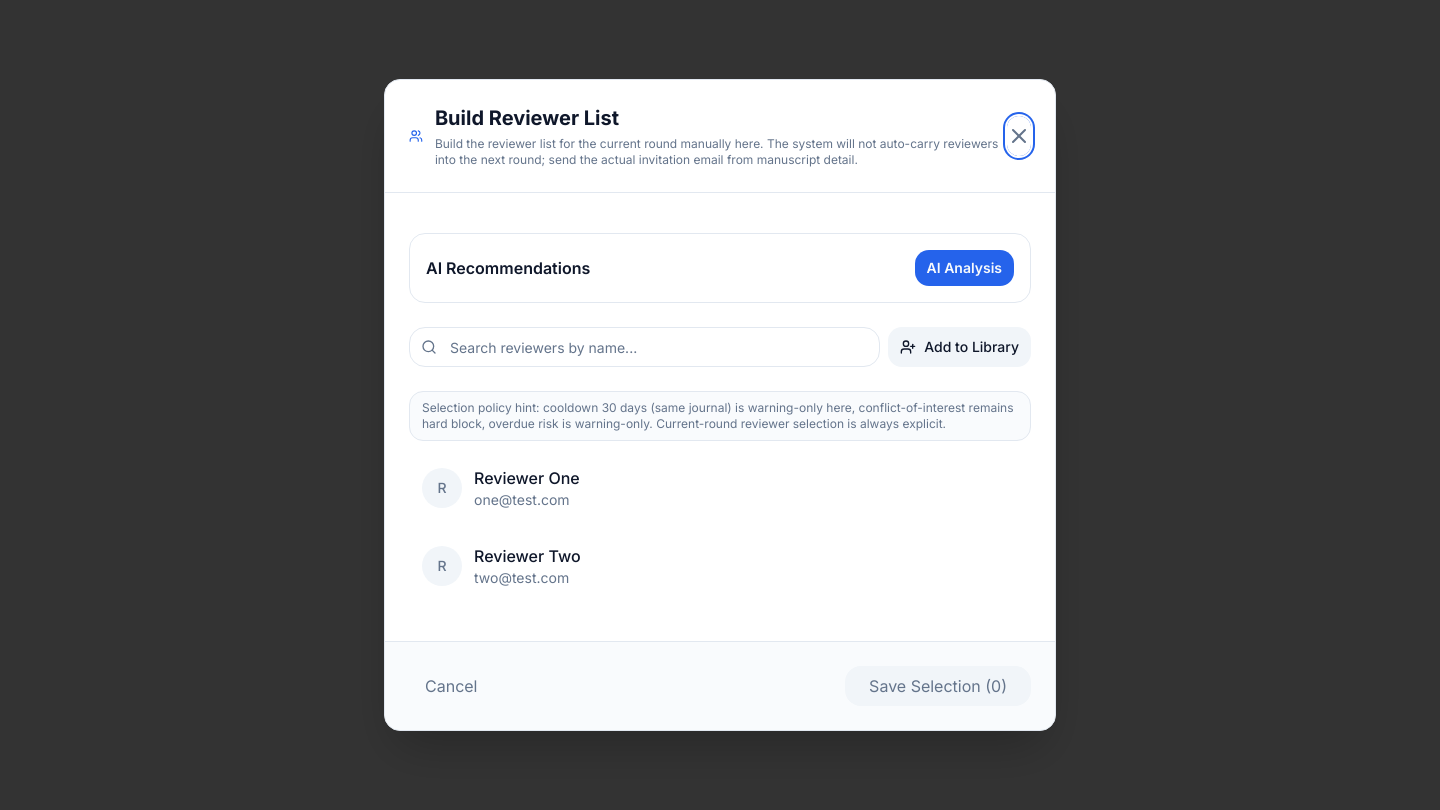
Test: ReviewerAssignModal AI Recommendations › keeps failed reviewers selected after partial success
Click the button with test id "reviewer-row-r-1".
click(442, 488)  # box [409,453,1031,523]
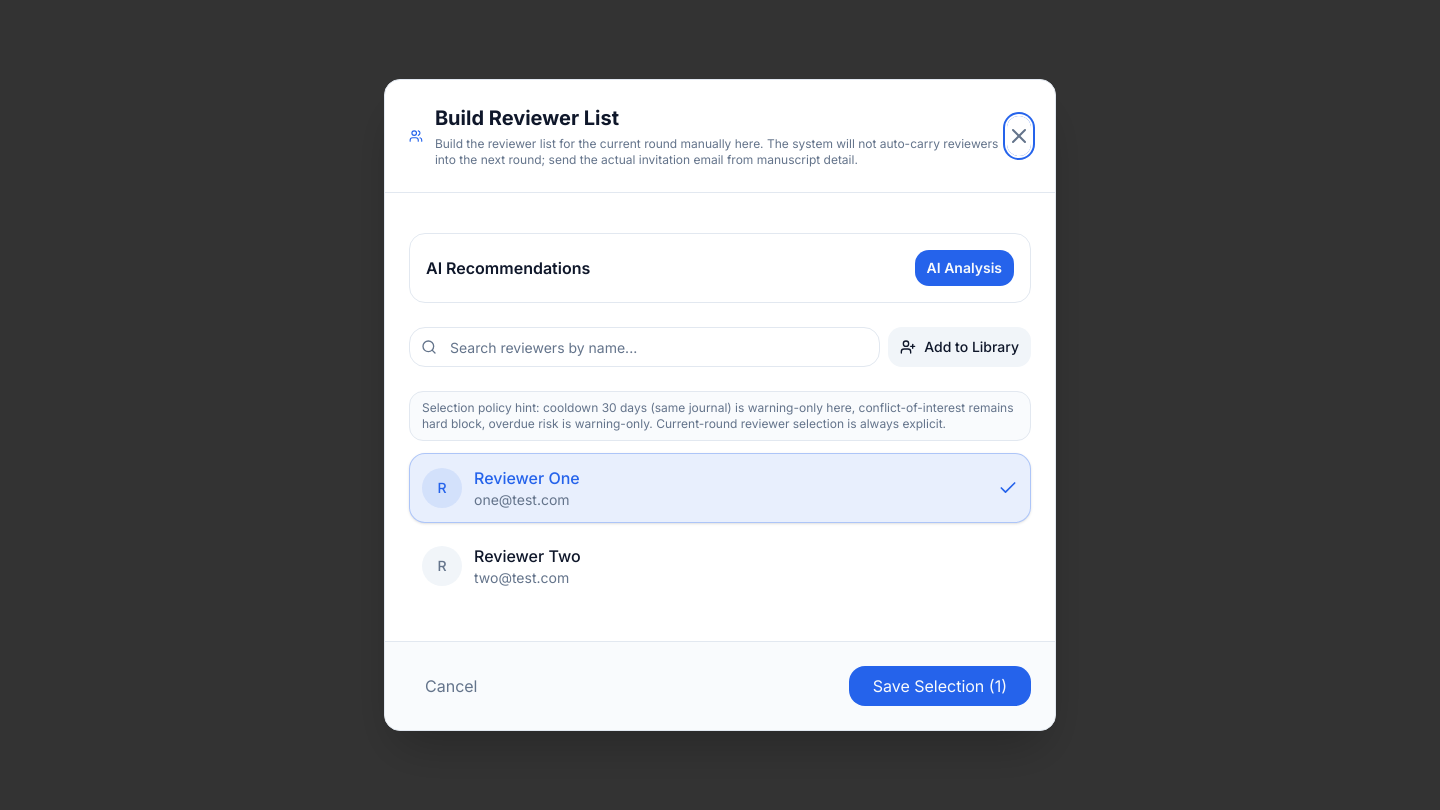
Click the button with test id "reviewer-row-r-2".
click(442, 566)  # box [409,531,1031,601]
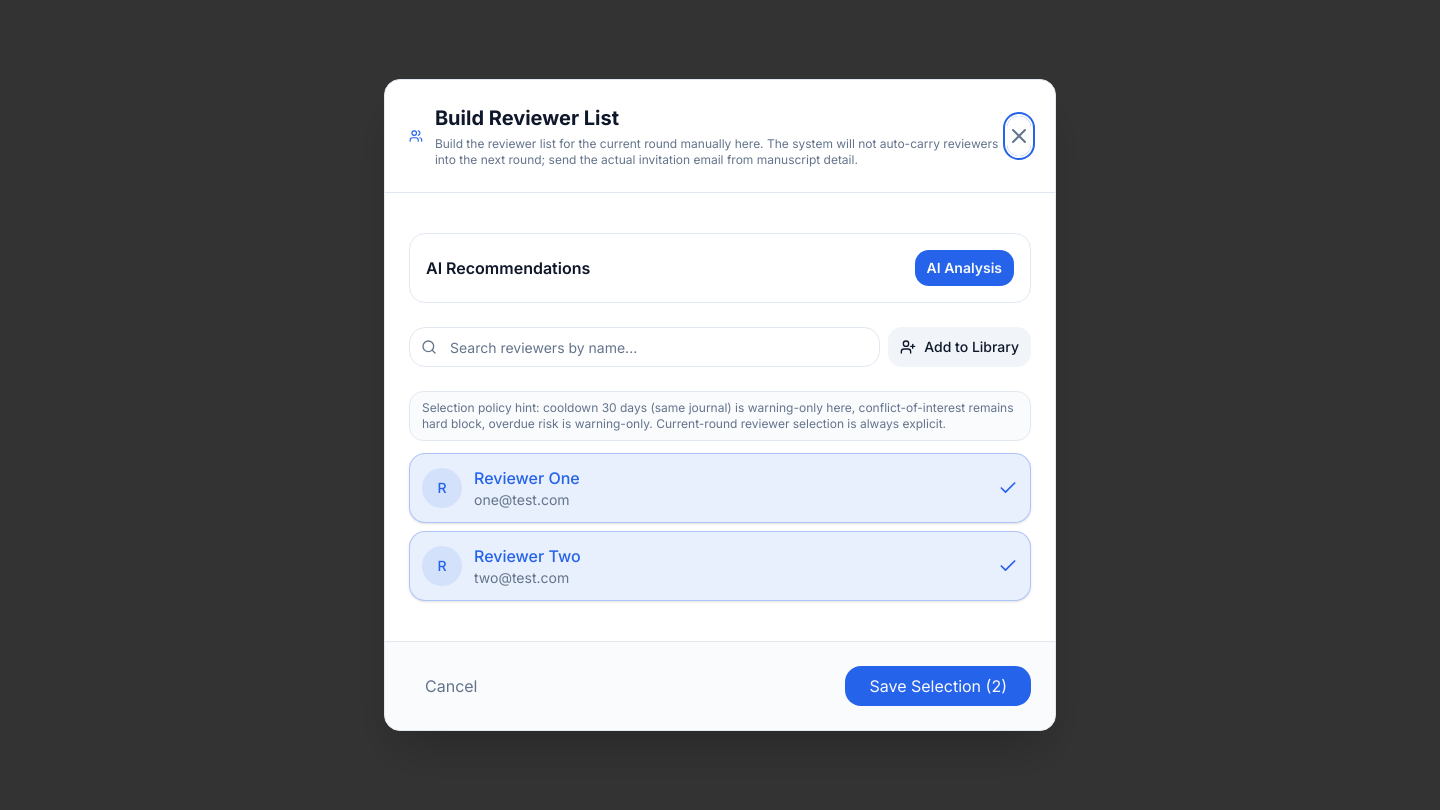
Result: the button with test id "reviewer-assign" reads "Save Selection (2)"
Click the button with test id "reviewer-assign".
click(938, 686)  # box [846,666,1031,706]
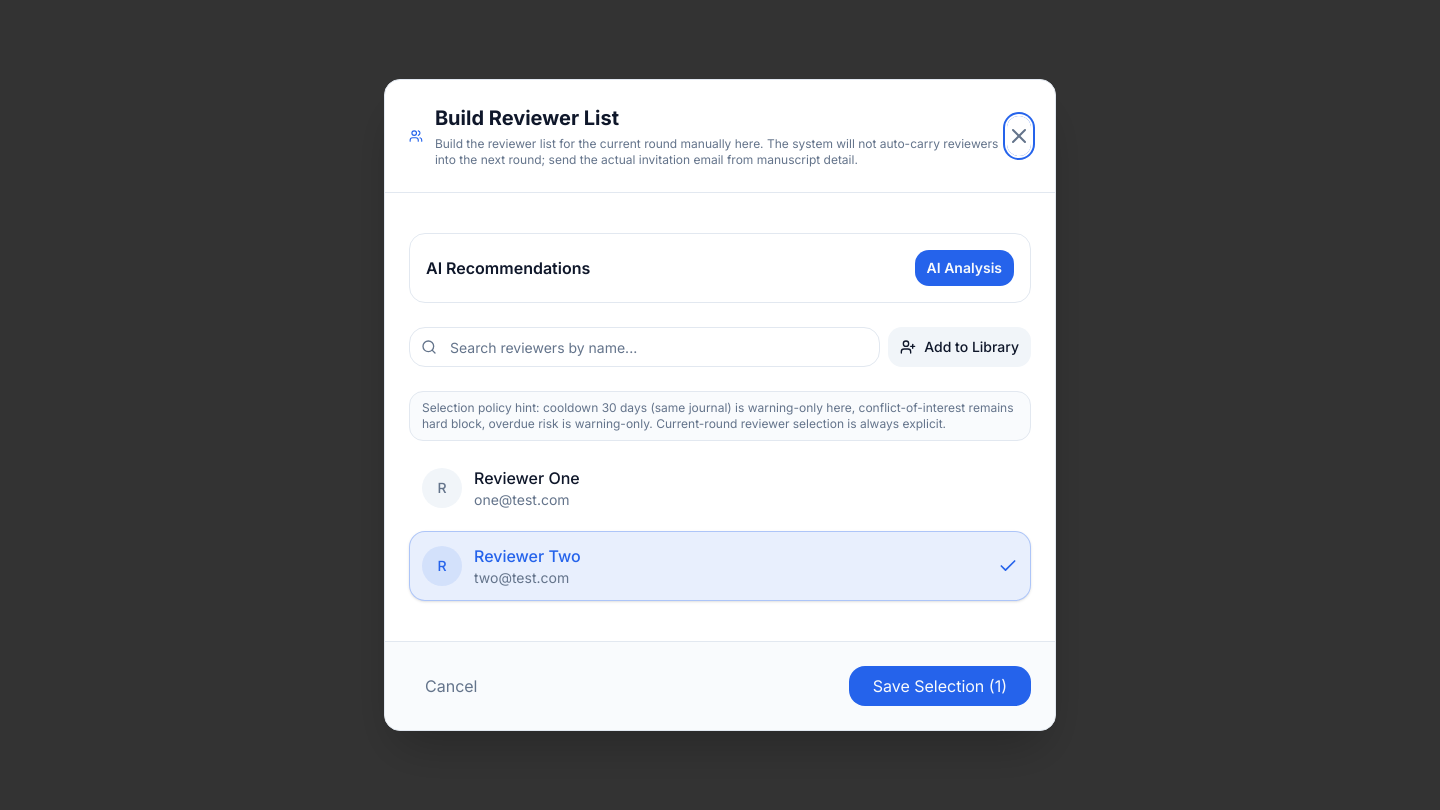
Result: the button with test id "reviewer-assign" reads "Save Selection (1)" at [849,666,1031,706]
